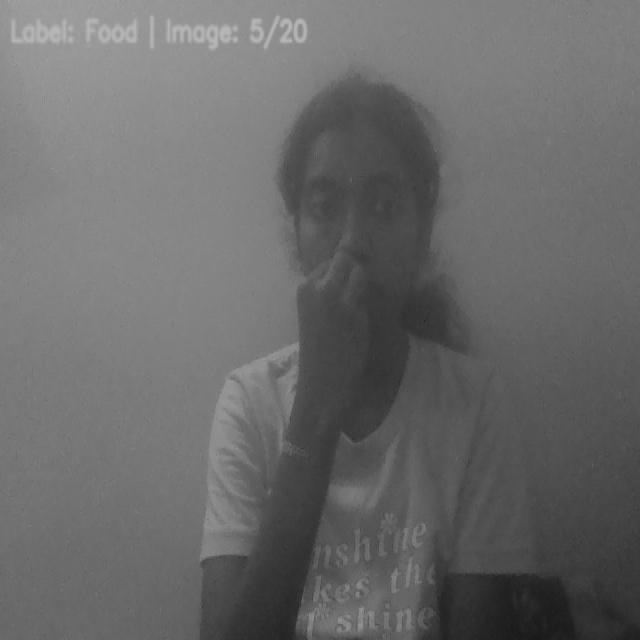Food: (284, 244, 385, 371)
